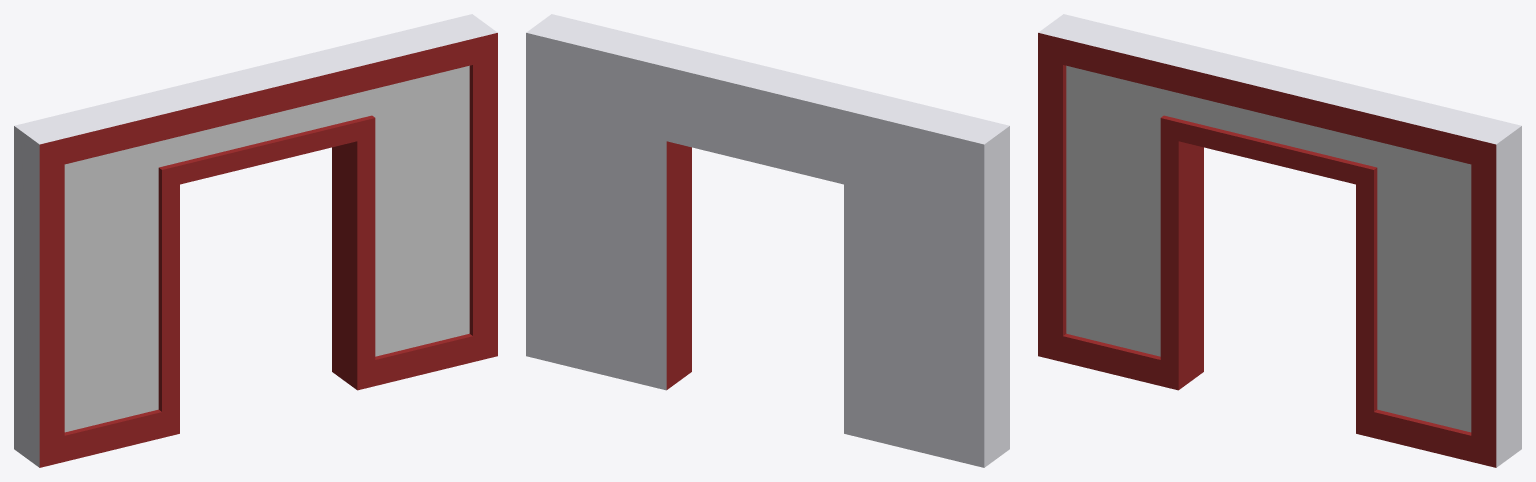
The model's file is Asian_Prop_Building_Modular_Wall_Doorway_Open_01.FBX.
3 renders of one model, left to right at view 1: azimuth 30°, elevation 25°; view 2: azimuth 150°, elevation 25°; view 3: azimuth 330°, elevation 25°, orthographic.
Visible parts, largest first — view 1: Asian_Prop_Building_Modular_Wall_Doorway_Open_01; view 2: Asian_Prop_Building_Modular_Wall_Doorway_Open_01; view 3: Asian_Prop_Building_Modular_Wall_Doorway_Open_01.
Boxes of the visible parts, box(x1,y1,x2,y2) form: Asian_Prop_Building_Modular_Wall_Doorway_Open_01: box(14, 14, 497, 467); Asian_Prop_Building_Modular_Wall_Doorway_Open_01: box(526, 14, 1009, 467); Asian_Prop_Building_Modular_Wall_Doorway_Open_01: box(1038, 14, 1521, 467).
Size of the model in its own units: 5167 by 3485 by 500.
